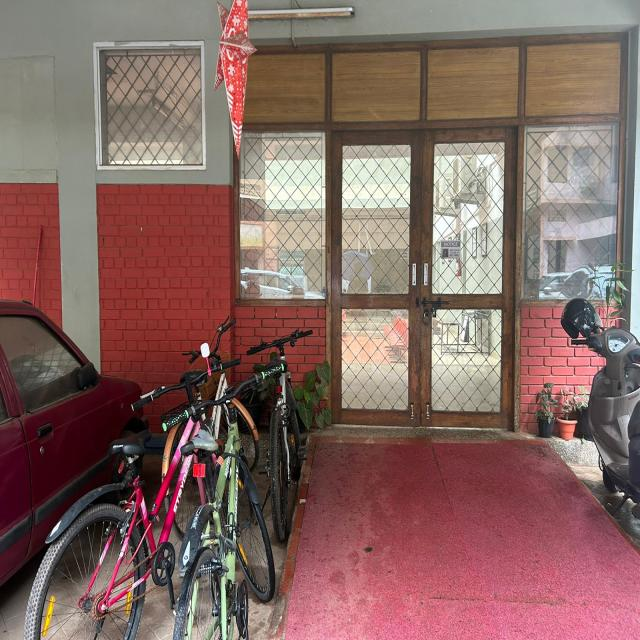Door ahead at: (330, 138, 509, 428)
bicycle ahead at: (165, 377, 278, 640)
